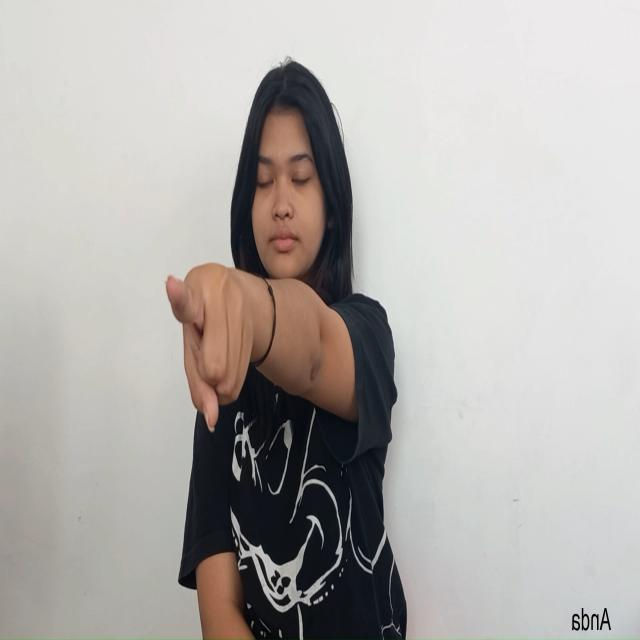Anda -BISINDO-: (164, 260, 266, 436)
